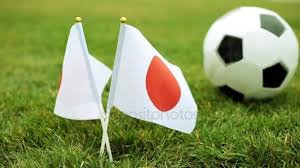Japanese Flag: (107, 22, 204, 136), (49, 21, 112, 125)
